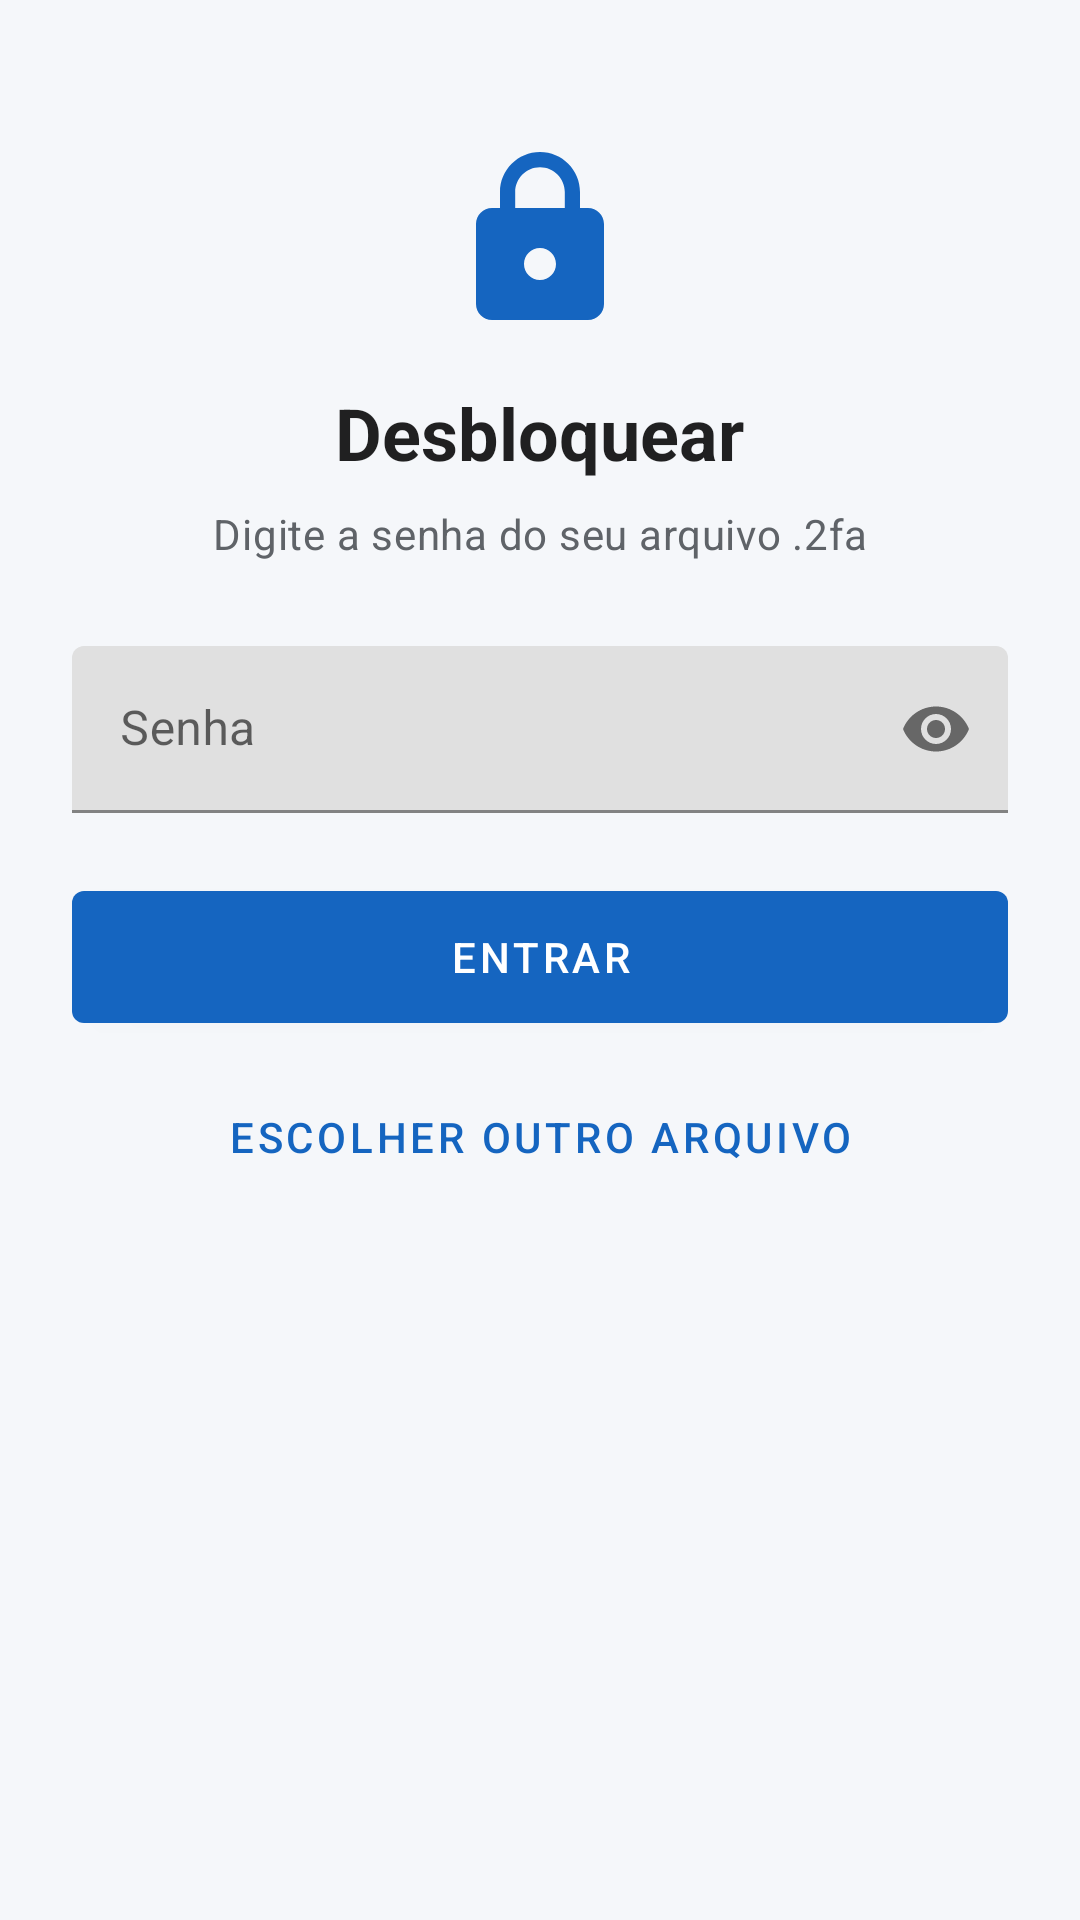

Screen size 1080w x 1920h. Icon name, then its box in pixels as detection(x1, y1, x2, y2):
lock: detection(476, 152, 604, 320)
